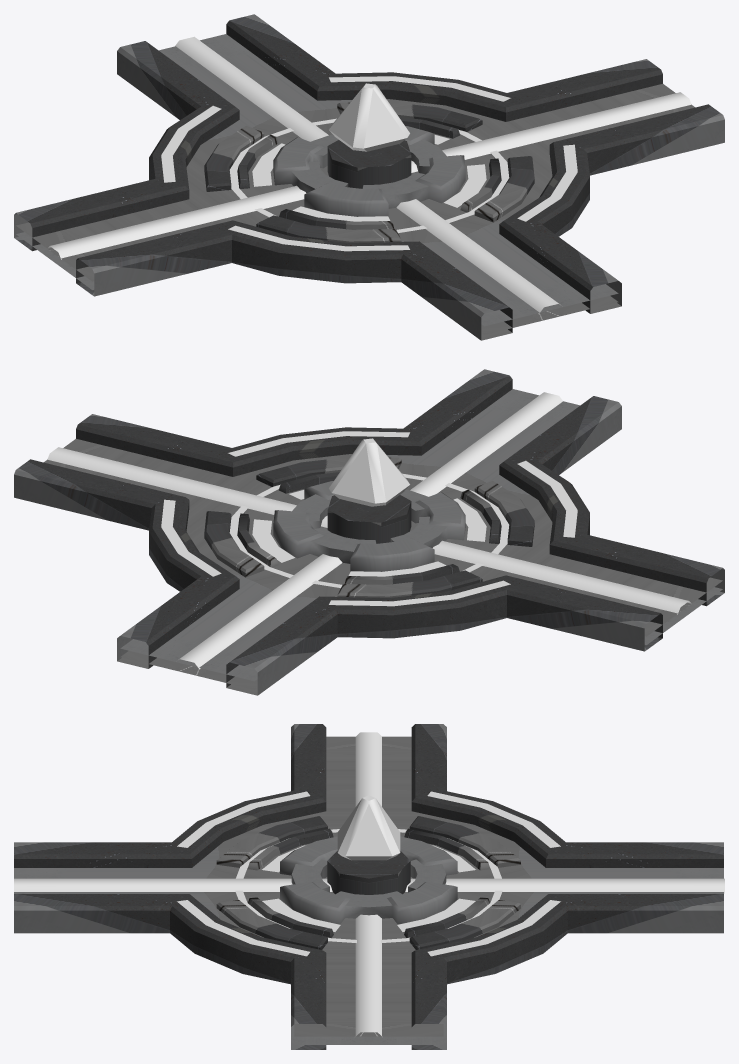
The model's file is Connecter_4Line.fbx.
3 views of the same model, one above another, from view 1: azimuth 30°, elevation 25°; view 2: azimuth 150°, elevation 25°; view 3: azimuth 270°, elevation 25° (orthographic). The views are drawn at different scales.
Visible parts, largest first — view 1: Connecter_4L_body, Line138, 4L, Pyramid013; view 2: Connecter_4L_body, Line138, 4L, Pyramid013; view 3: Connecter_4L_body, Line138, 4L, Pyramid013.
Part boxes in pixels (x1,y1,x2,y2): Connecter_4L_body: [14, 14, 724, 340]; Line138: [47, 36, 691, 313]; 4L: [161, 76, 577, 251]; Pyramid013: [329, 83, 409, 151]; Connecter_4L_body: [14, 369, 724, 695]; Line138: [47, 392, 691, 668]; 4L: [161, 431, 577, 606]; Pyramid013: [329, 438, 409, 506]; Connecter_4L_body: [14, 724, 723, 1049]; Line138: [14, 732, 724, 1037]; 4L: [177, 791, 560, 956]; Pyramid013: [337, 795, 400, 860].
Bounding box in the file's own units: 100 × 15.81 × 100.
